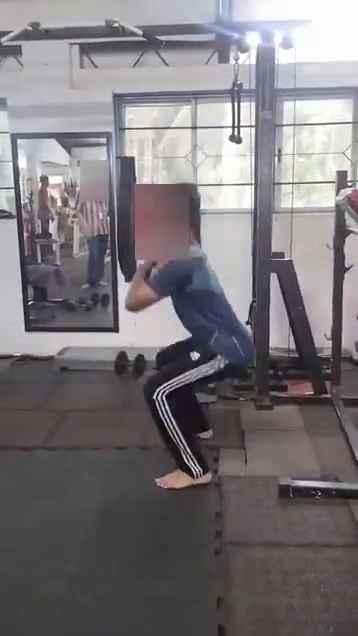squat_correct: (132, 243, 248, 503)
